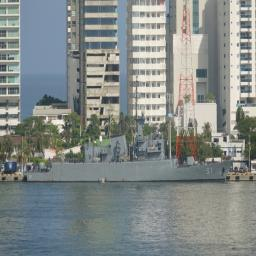Fragata: (25, 127, 235, 186)
